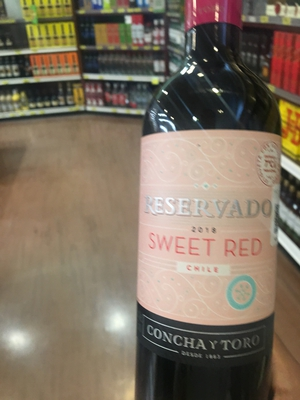reservado sweet red: (139, 3, 281, 400)
